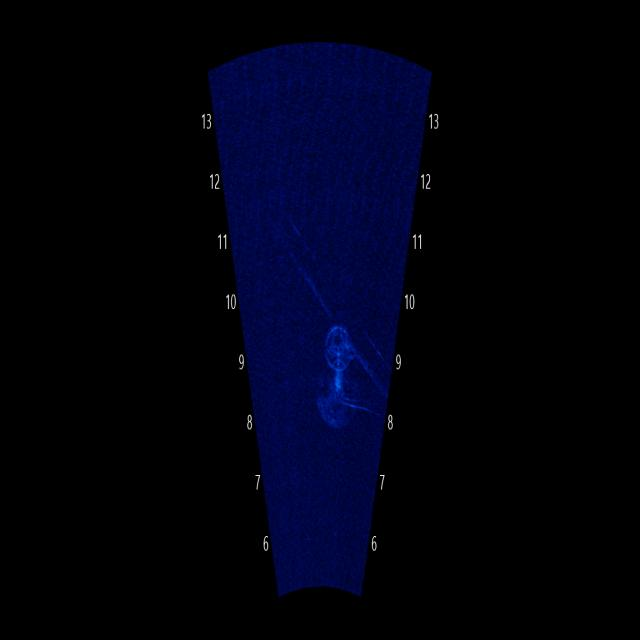circle: (314, 299, 363, 395)
